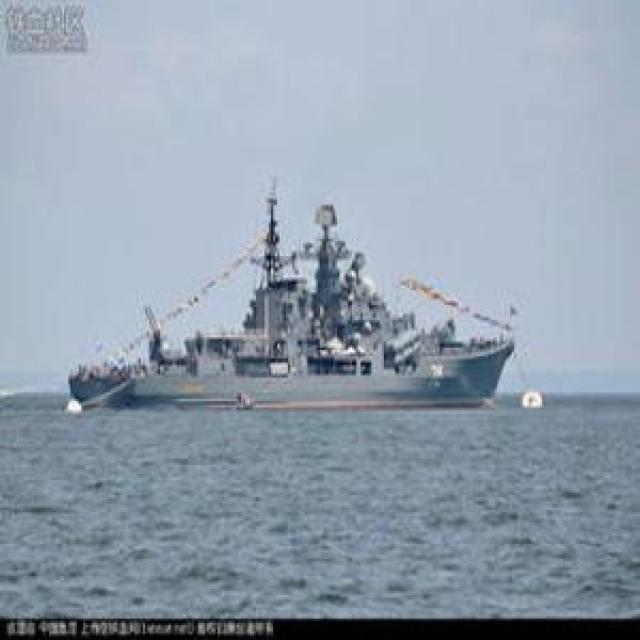navalvessels: (61, 176, 526, 416)
